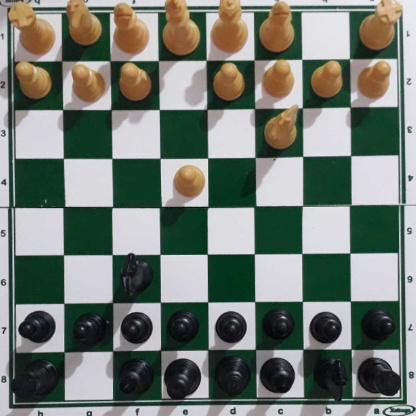black-bishop: (116, 360, 156, 400), (259, 360, 298, 397)
black-king: (163, 358, 203, 403)
black-knight: (120, 255, 153, 300), (316, 360, 348, 405)
black-pawn: (20, 311, 57, 347), (121, 314, 153, 349), (311, 312, 343, 347), (217, 312, 248, 348), (362, 312, 396, 344), (74, 314, 105, 349), (264, 311, 295, 345), (169, 312, 200, 346)
black-queen: (214, 359, 252, 399)
black-rook: (14, 361, 58, 405), (358, 359, 404, 400)
white-bishop: (259, 0, 297, 53), (114, 5, 151, 55)
white-king: (164, 2, 201, 56)
white-knight: (67, 1, 103, 48), (265, 108, 301, 153)
white-pawn: (70, 66, 107, 106), (358, 62, 394, 102), (16, 64, 52, 102), (263, 62, 297, 101), (118, 65, 152, 103), (214, 65, 247, 103), (312, 64, 345, 100), (174, 166, 207, 200)
white-queen: (211, 0, 250, 55)
white-rook: (12, 3, 55, 60), (362, 0, 401, 56)
